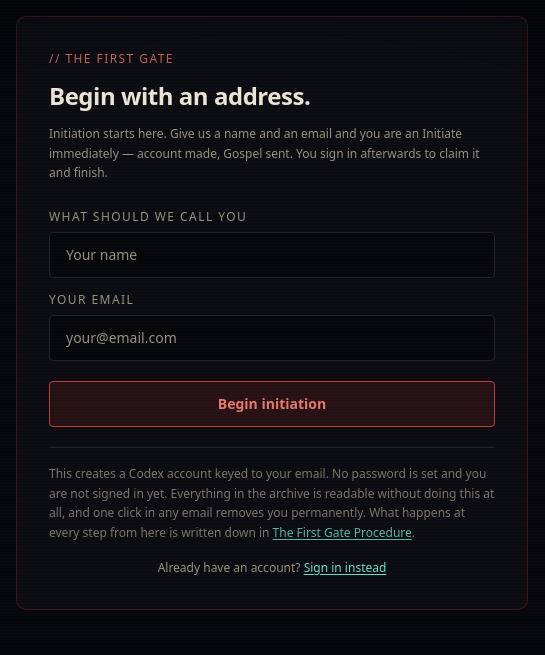
Test: EmailGate › keeps the form usable when capture fails
In the field with placeholder "Your name": (272, 255) [49,232,495,278], type "Test Traveler"
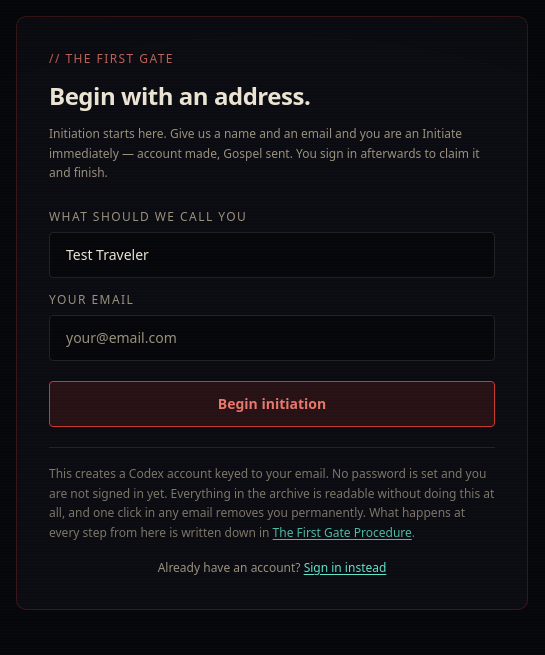
In the field with placeholder "your@email.com": (272, 338) [49,315,495,361], type "gate@example.test"
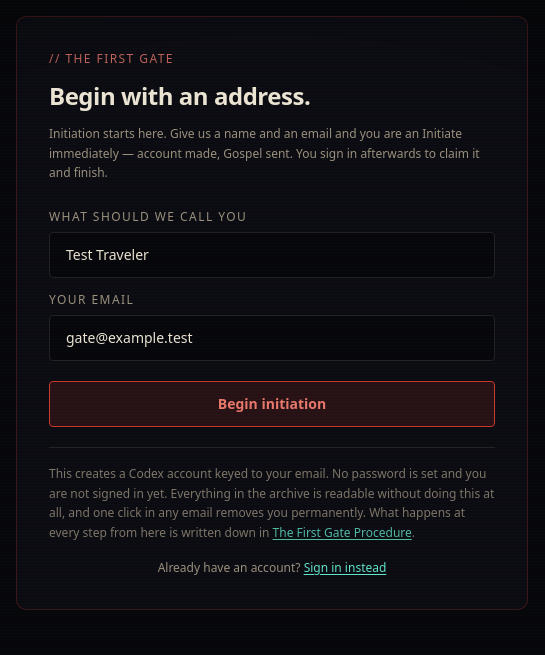
Click the button "Begin initiation": (272, 404) [49,381,495,427]
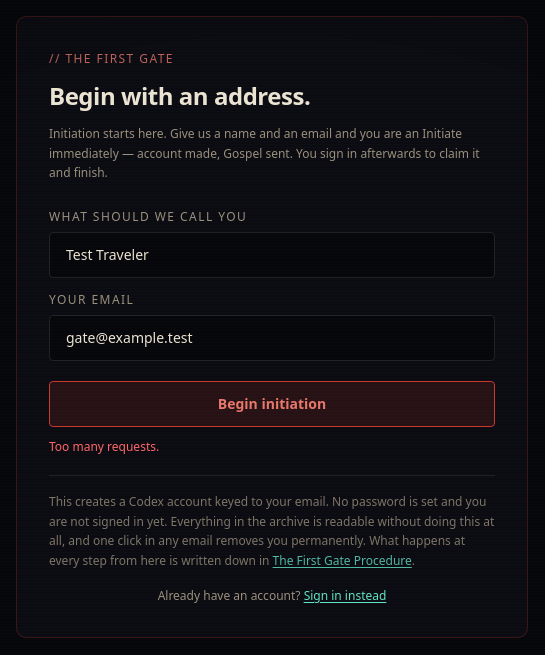
Check: the message reads "Too many requests.", box [49,438,159,455]
